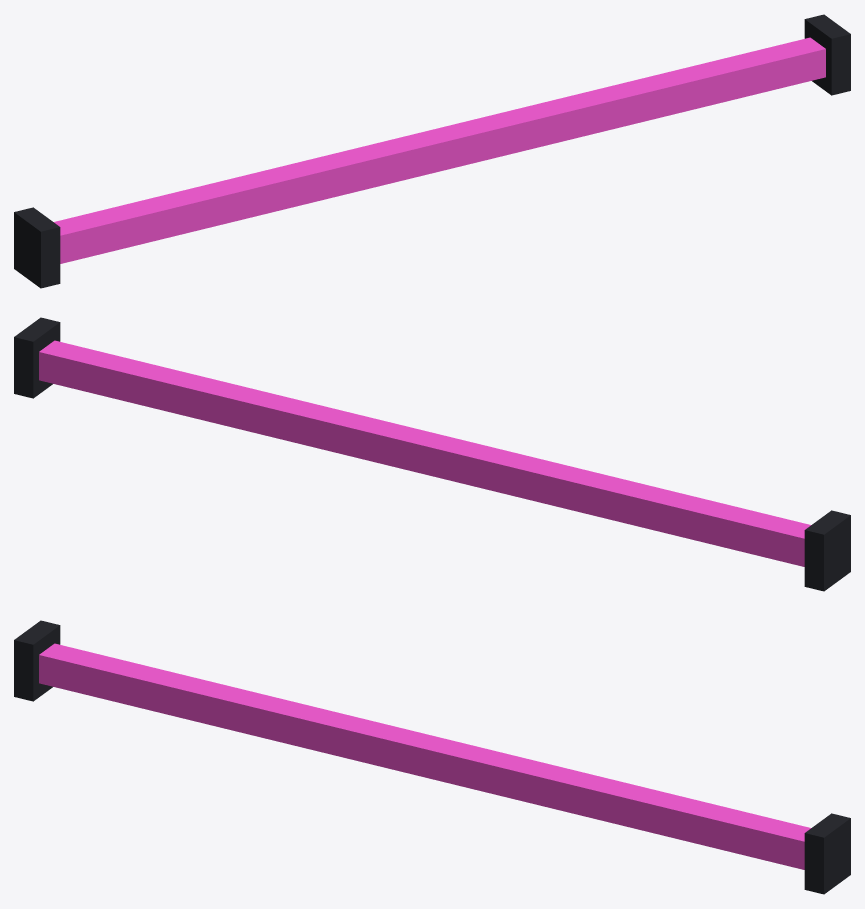
The model's file is neon_bar_magenta.obj.
The picture shows the model from 3 angles, top to bottom: view 1: azimuth 30°, elevation 25°; view 2: azimuth 150°, elevation 25°; view 3: azimuth 330°, elevation 25°; orthographic projection.
Size of the model in its own units: 2.09 by 0.14 by 0.12.
2 materials, 2 textured.
